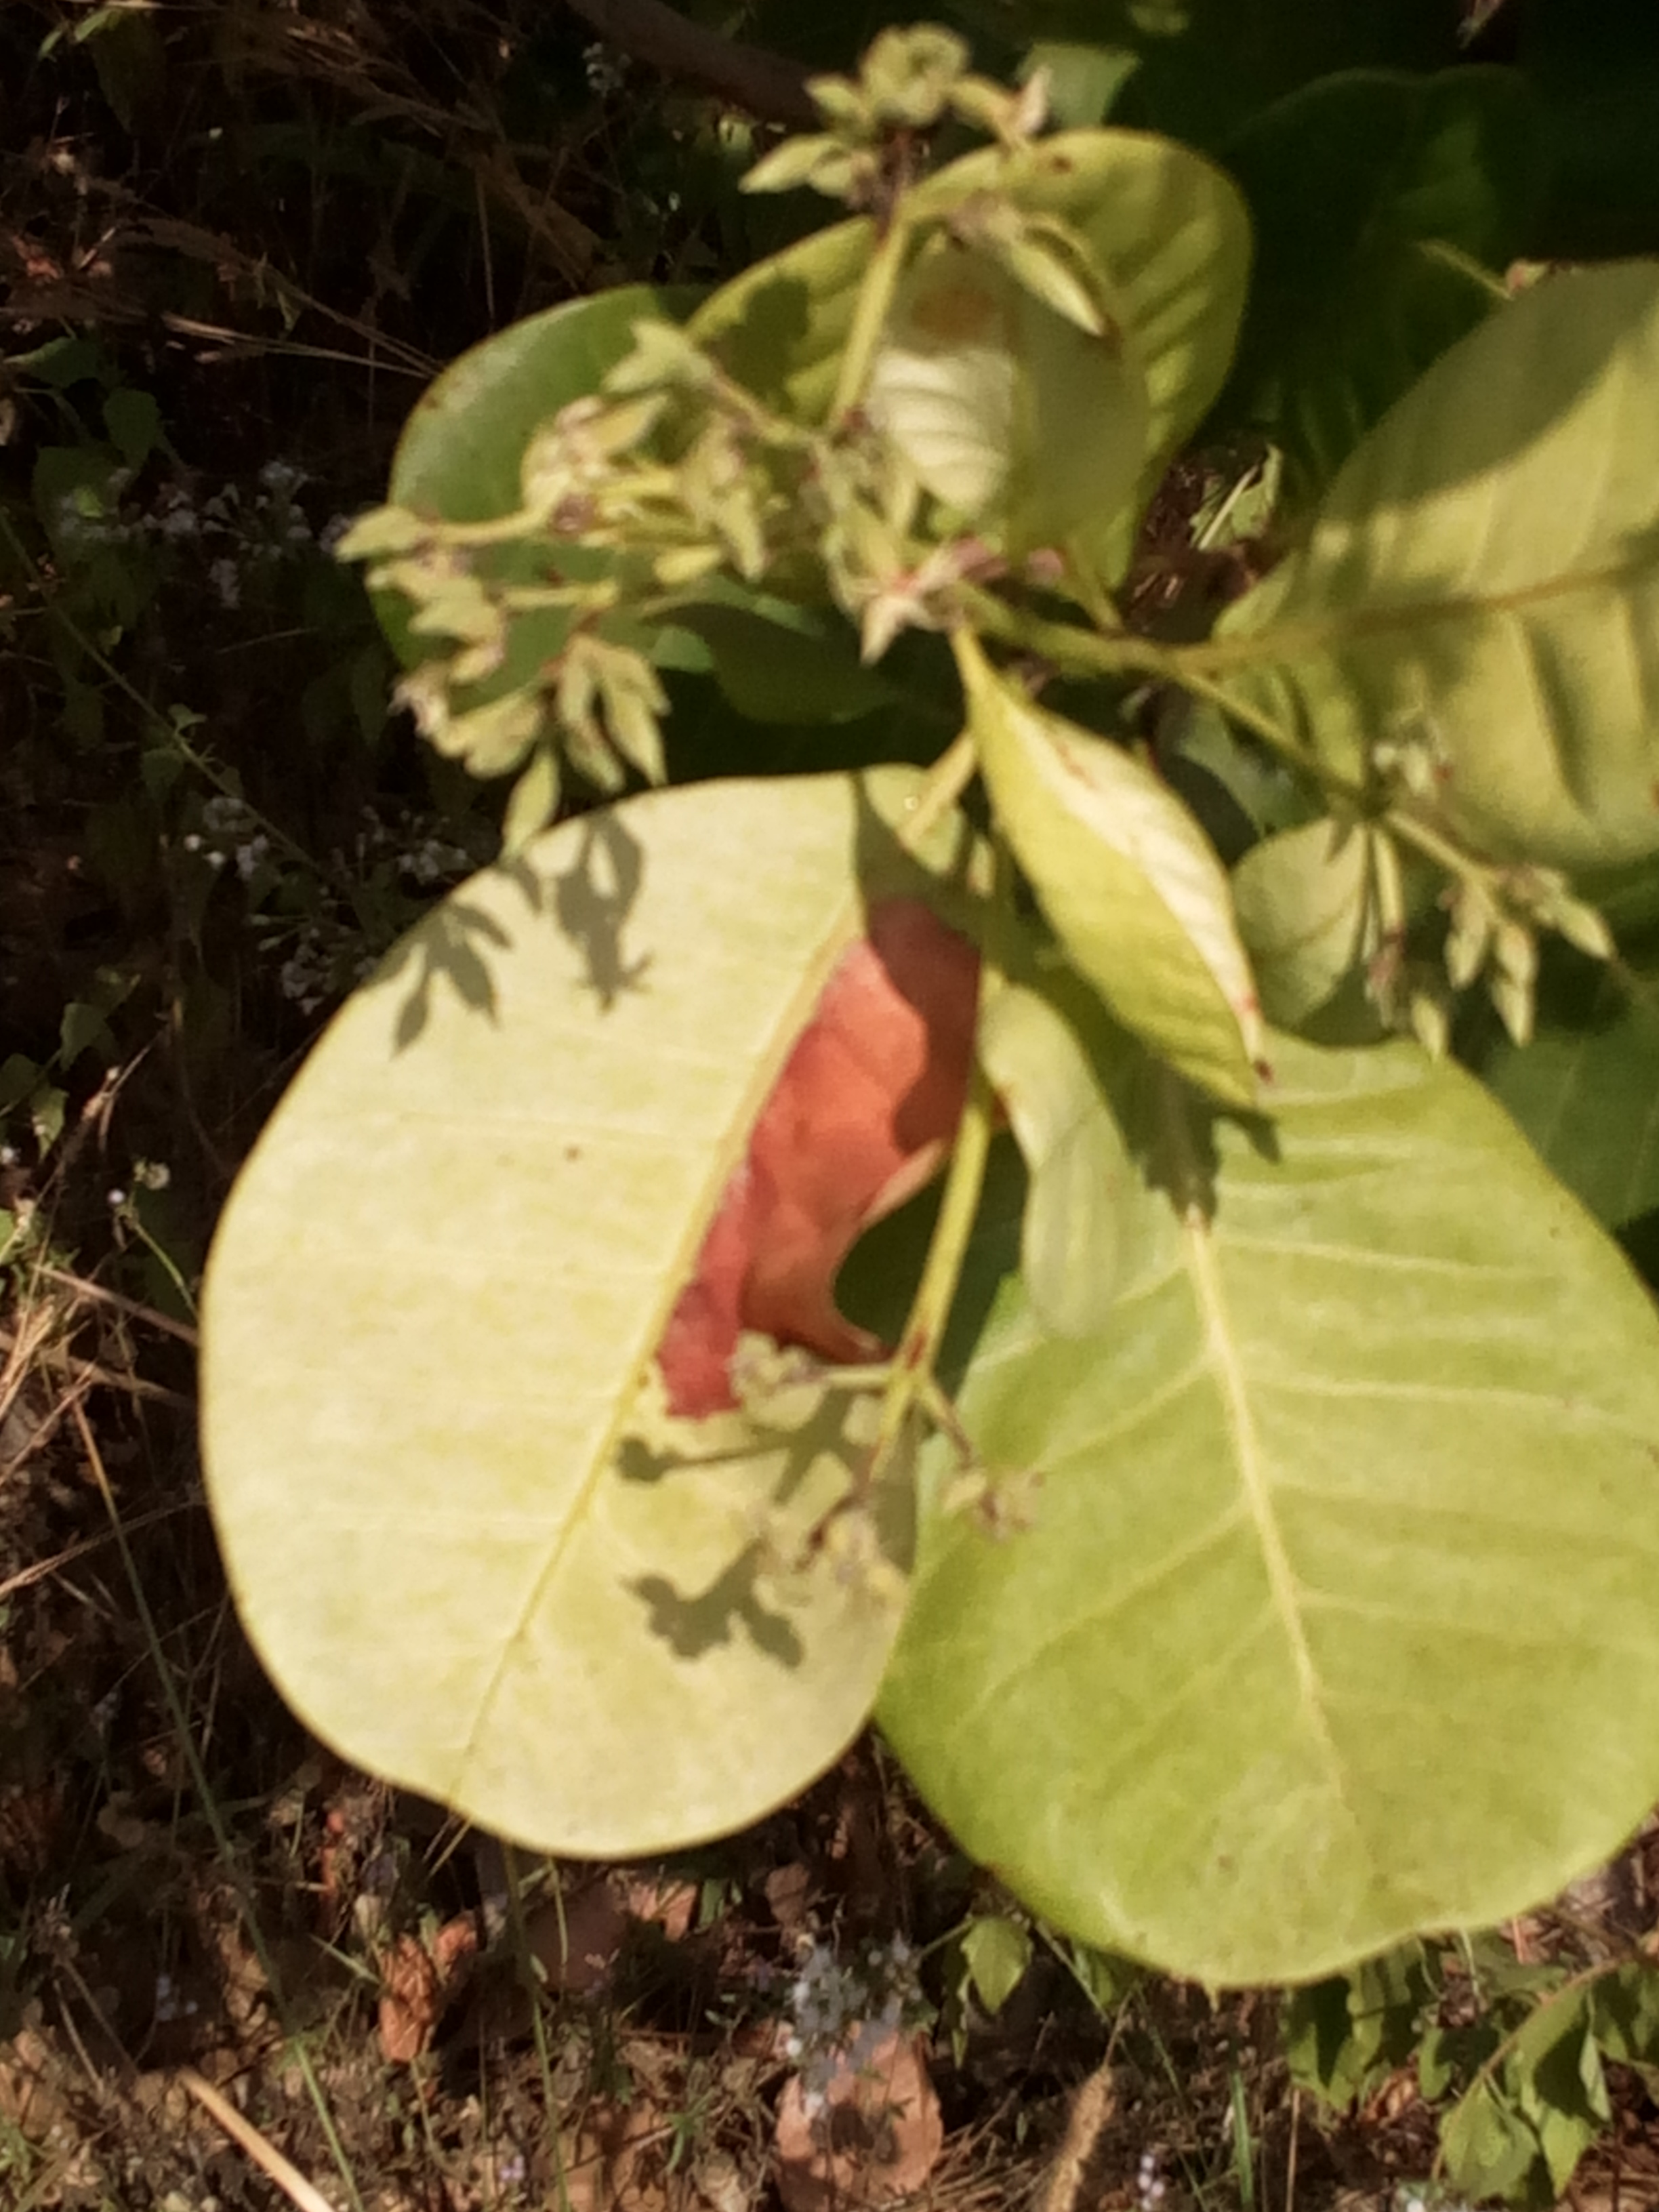Bactériose: (676, 902, 1009, 1634), (385, 401, 1060, 648)
